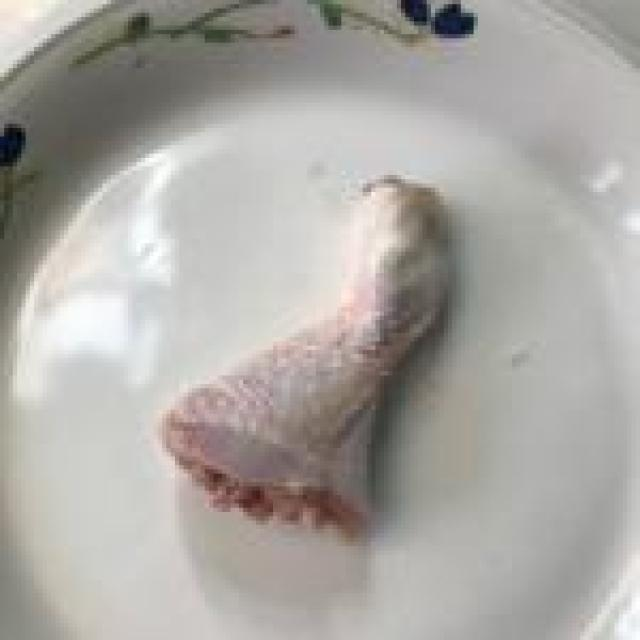leg: (154, 158, 466, 556)
